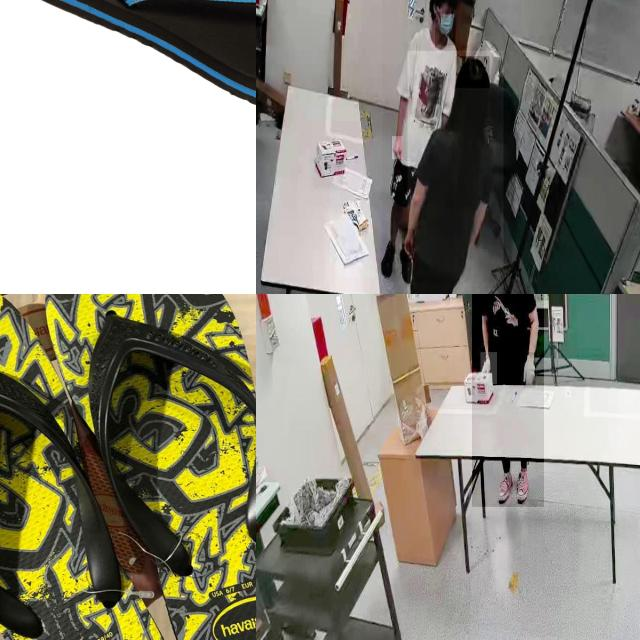Sandals: (0, 294, 256, 640), (8, 0, 256, 130)
face_mask: (435, 12, 456, 46)
hand_glove: (480, 352, 498, 385), (524, 352, 536, 389)
hand_noglove: (402, 229, 415, 263), (392, 136, 403, 160)
head_nohelmet: (456, 56, 490, 89)
person: (407, 50, 504, 294), (381, 0, 454, 282), (471, 294, 544, 507)
shoes: (380, 238, 398, 280), (495, 466, 513, 504), (515, 466, 531, 508)
